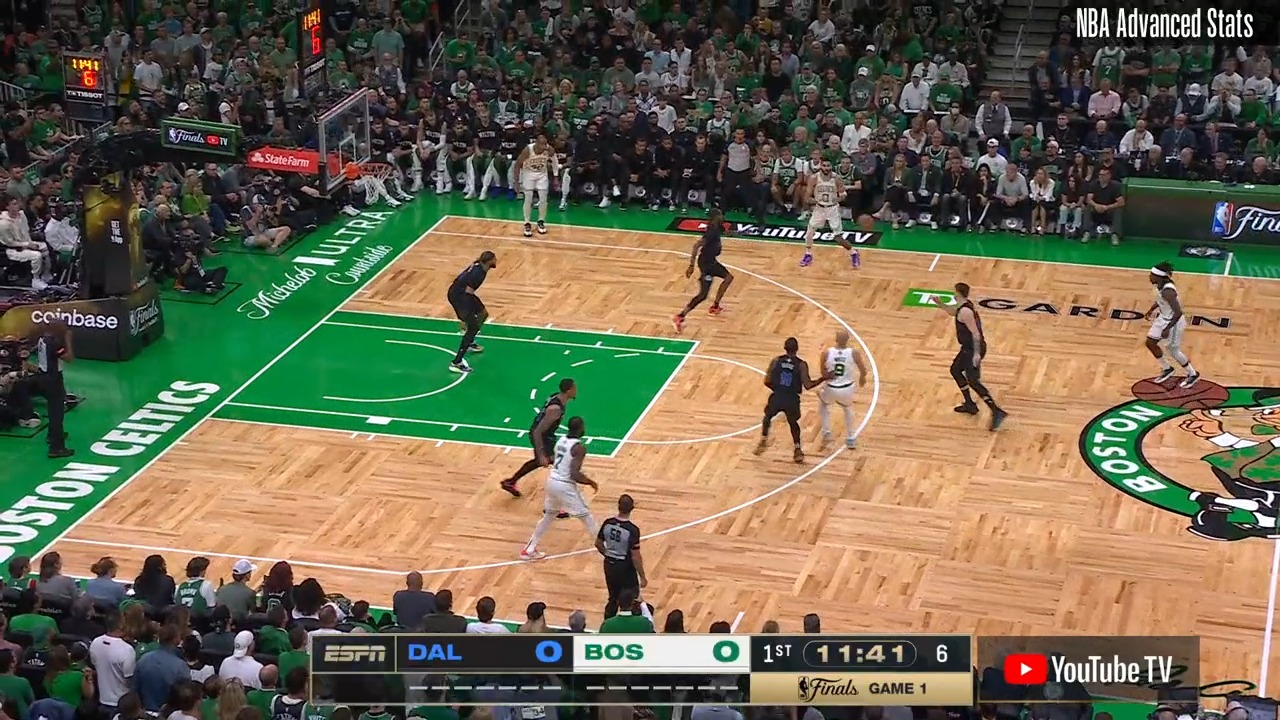basketball: (854, 211, 876, 234)
